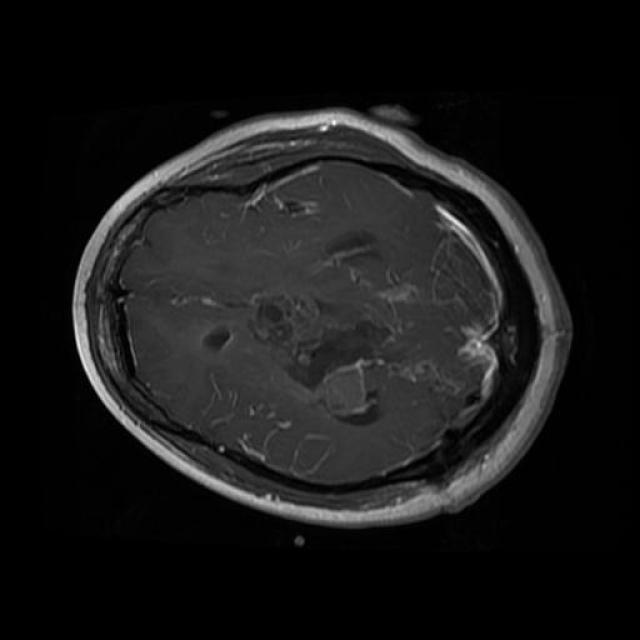Glioma: (250, 293, 349, 370)
